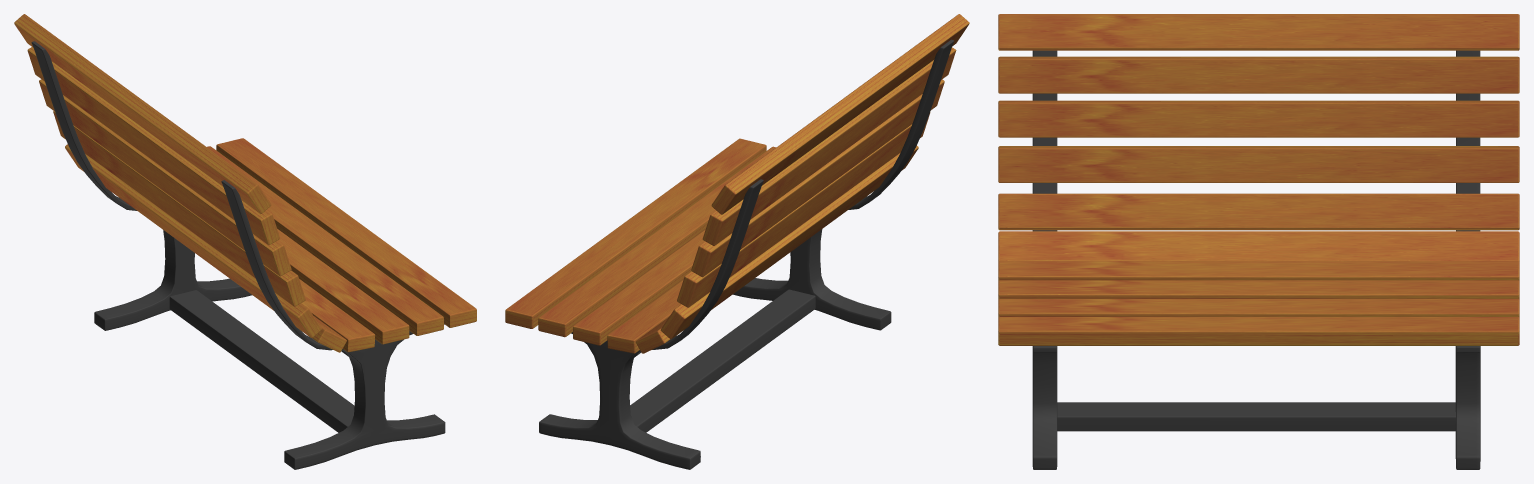
The model's file is bench.fbx.
3 renders of one model, left to right at view 1: azimuth 30°, elevation 25°; view 2: azimuth 150°, elevation 25°; view 3: azimuth 270°, elevation 25°, orthographic. The views are drawn at different scales.
Parts seen in each view (by area): view 1: bench:pCube19; view 2: bench:pCube19; view 3: bench:pCube19.
Boxes of the visible parts, x1,y1,x2,y2 form: bench:pCube19: (14,14,476,469); bench:pCube19: (505,14,969,469); bench:pCube19: (998,14,1519,469).
Size of the model in its own units: 11.97 by 15.41 by 21.08.
